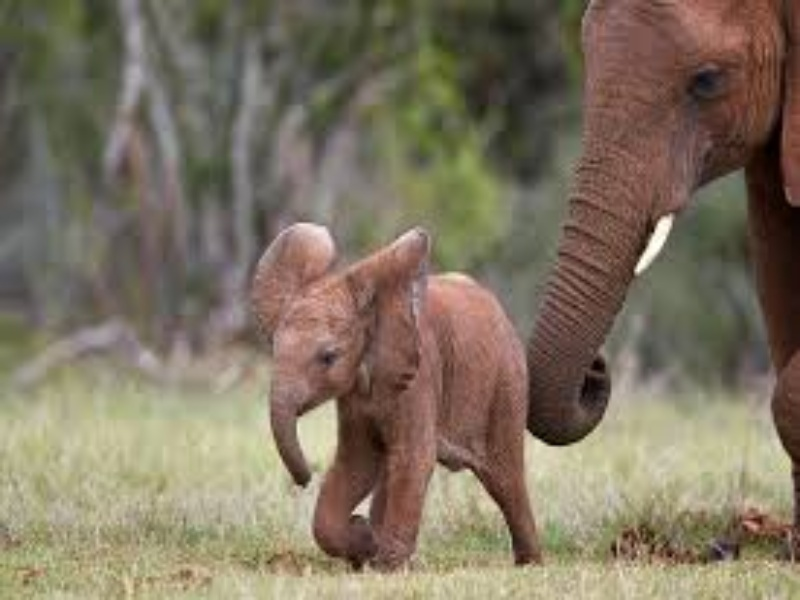elephant: (521, 1, 800, 458), (228, 222, 545, 579)
